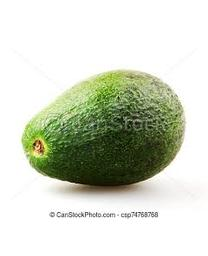avocado: (21, 70, 187, 188)
